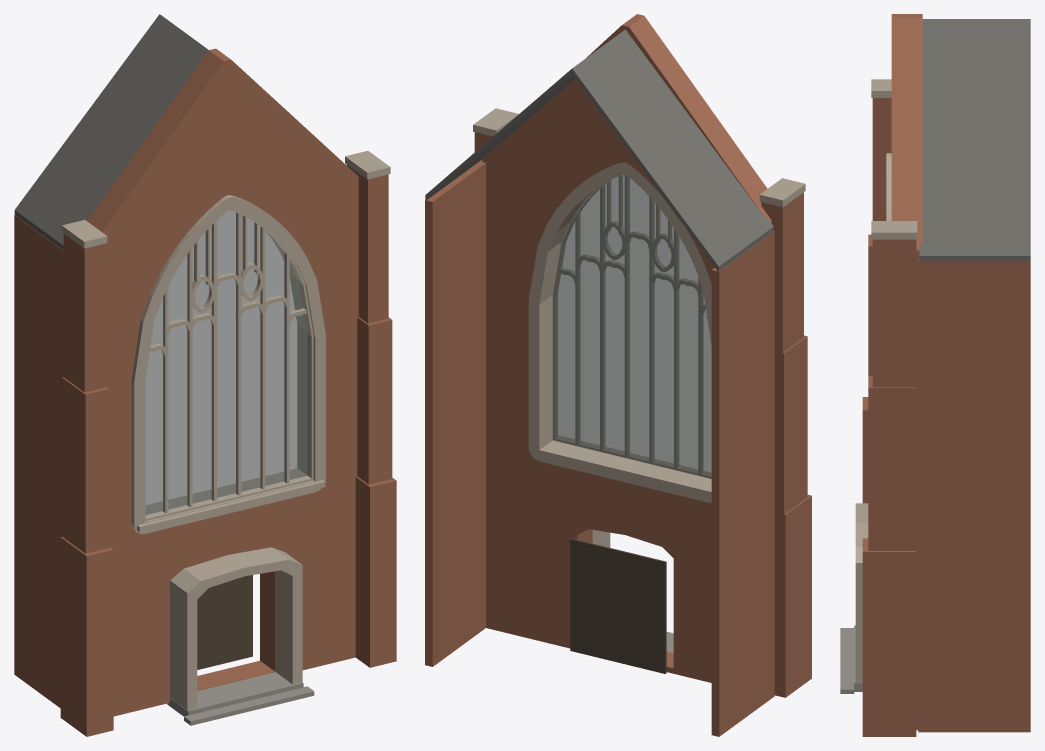
File: lod-source.glb
The picture shows the model from 3 angles, left to right: view 1: azimuth 30°, elevation 25°; view 2: azimuth 150°, elevation 25°; view 3: azimuth 270°, elevation 25°; orthographic projection. The views are drawn at different scales.
Visible parts, largest first — view 1: 国际礼拜堂临衡山路七扇尖窗山墙; view 2: 国际礼拜堂临衡山路七扇尖窗山墙; view 3: 国际礼拜堂临衡山路七扇尖窗山墙.
Boxes of the visible parts, x1,y1,x2,y2 form: 国际礼拜堂临衡山路七扇尖窗山墙: [14, 14, 396, 736]; 国际礼拜堂临衡山路七扇尖窗山墙: [425, 14, 811, 736]; 国际礼拜堂临衡山路七扇尖窗山墙: [840, 14, 1030, 736].
Bounding box in the file's own units: 9.03 × 17.59 × 4.69.
